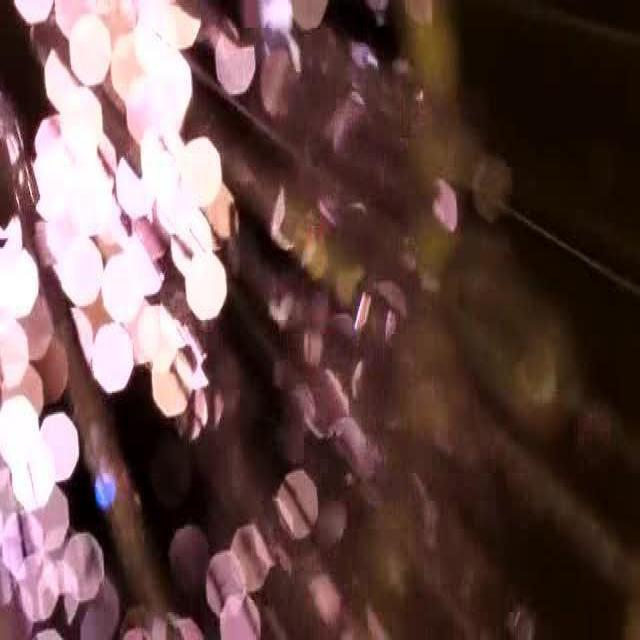other: (3, 1, 360, 584)
